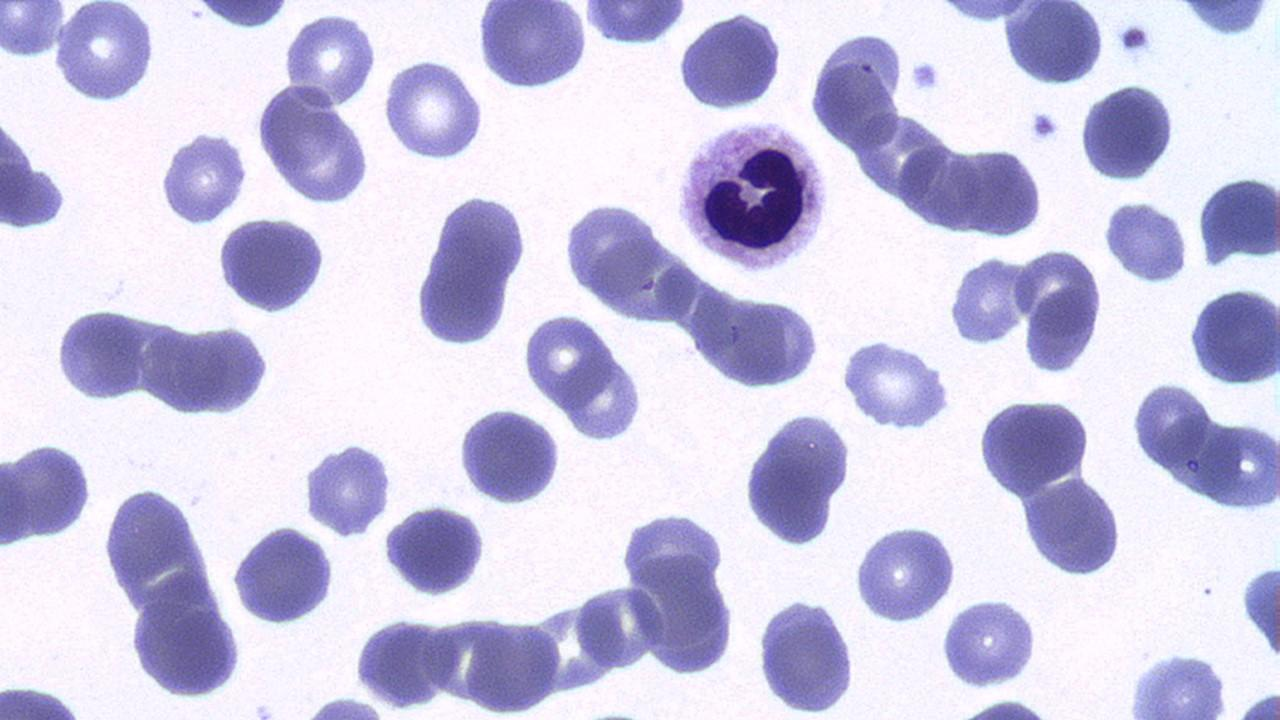Platelets: (840, 335, 952, 434), (156, 127, 248, 228), (958, 692, 1052, 718), (1116, 19, 1154, 57), (1237, 688, 1280, 718), (908, 58, 942, 94), (1027, 108, 1061, 143), (250, 700, 278, 720)
RBC: (255, 81, 372, 207), (1015, 248, 1105, 378), (852, 519, 960, 625), (381, 56, 487, 163), (52, 0, 156, 106), (0, 91, 74, 237), (464, 614, 562, 717), (590, 235, 696, 328), (281, 8, 378, 109), (53, 304, 149, 402), (809, 51, 901, 153), (522, 310, 614, 412), (185, 322, 273, 417), (956, 144, 1045, 237), (138, 322, 222, 420), (1197, 416, 1279, 514), (947, 252, 1027, 349), (1132, 378, 1214, 472), (1199, 169, 1279, 265), (1, 2, 68, 61), (0, 451, 31, 549)
WBC: (0, 0, 1006, 720), (0, 0, 481, 709), (91, 472, 257, 710), (673, 114, 834, 278), (405, 182, 536, 353), (740, 407, 854, 549), (255, 79, 374, 207), (1012, 239, 1108, 381), (752, 594, 860, 716), (840, 323, 958, 433), (977, 390, 1097, 498), (674, 5, 789, 113), (228, 520, 340, 627), (215, 213, 331, 316), (852, 518, 960, 626), (454, 404, 564, 508), (474, 1, 594, 95), (1018, 477, 1127, 580), (380, 499, 490, 600), (53, 0, 159, 104), (1076, 78, 1178, 185), (1, 96, 75, 238), (938, 592, 1044, 690), (352, 616, 460, 712), (3, 441, 97, 548), (300, 435, 395, 540), (1186, 284, 1280, 389), (282, 8, 376, 112), (156, 127, 253, 227), (53, 304, 150, 403), (999, 1, 1107, 87), (184, 319, 272, 420), (1101, 194, 1191, 286), (1119, 648, 1237, 716), (1197, 171, 1279, 268), (948, 250, 1026, 350), (574, 1, 699, 46), (1239, 548, 1280, 678), (1, 0, 71, 61), (1168, 0, 1278, 36), (190, 0, 301, 30)
